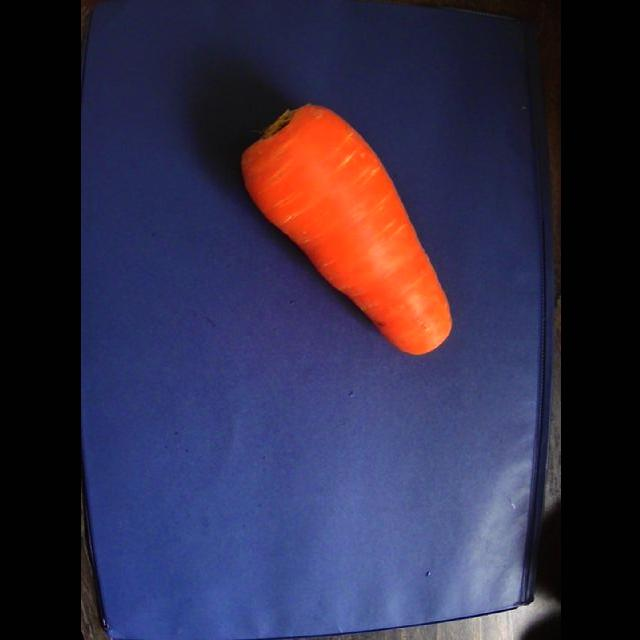zanahoria: (241, 104, 450, 353)
